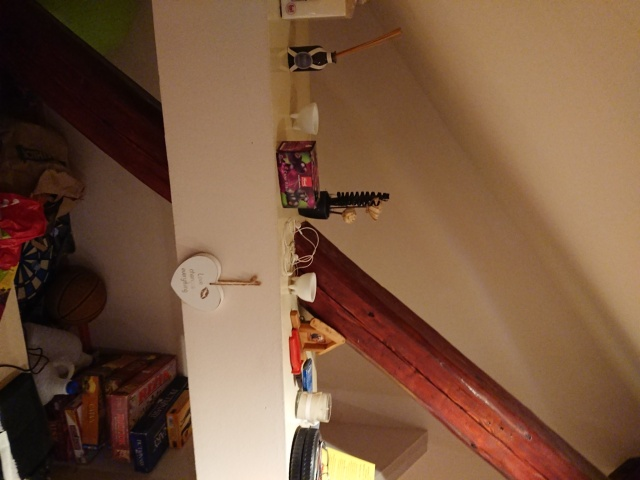Franck Black Currant Tea 60g: (273, 138, 322, 211)
